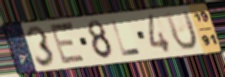3: (26, 24, 56, 69)
4: (147, 12, 172, 55)
8: (86, 18, 115, 61)
E: (48, 21, 89, 67)
L: (109, 19, 143, 58)
U: (163, 8, 200, 53)
